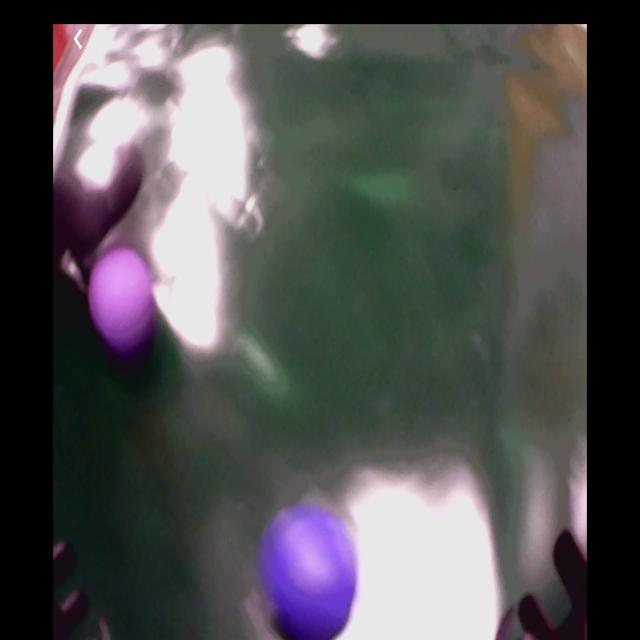ball: (264, 503, 357, 638), (90, 248, 155, 352)
